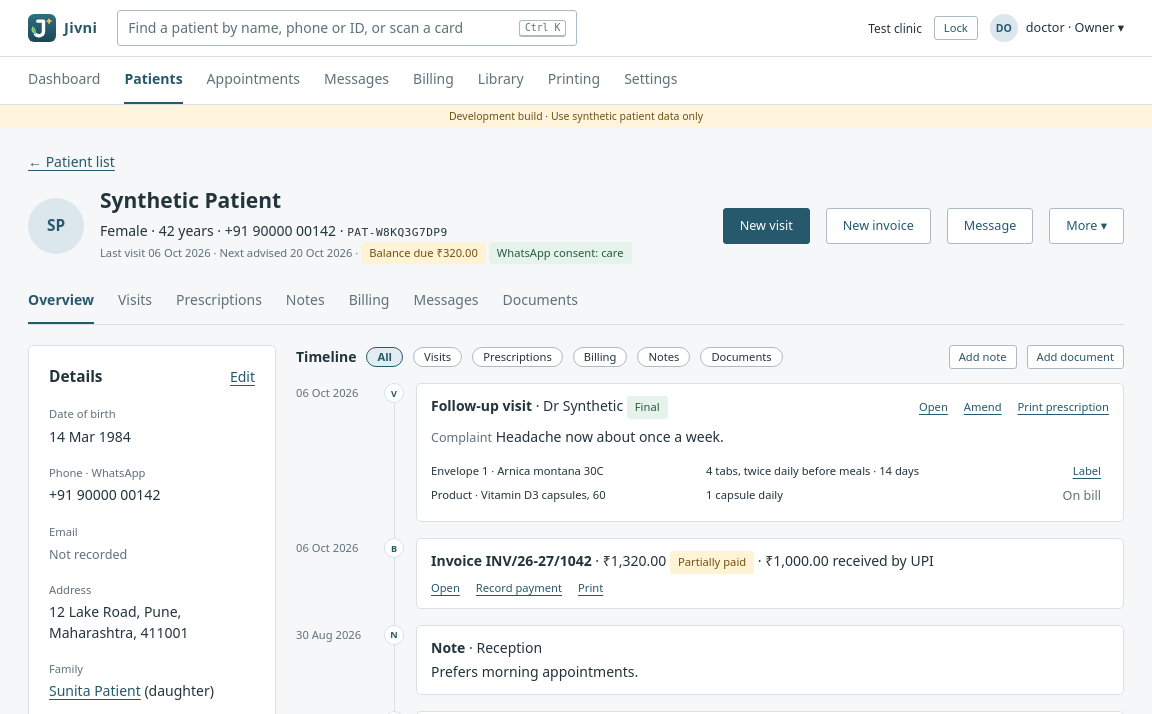
the patient record › shows the banner, the details panel and one timeline of everything
Expected: the heading "Synthetic Patient" is shown, x1=100 y1=186 x2=281 y2=214
Expected: the text "Female · 42 years · +91 90000 00142 · PAT-W8KQ3G7DP9" is shown, x1=100 y1=221 x2=448 y2=240
Click the button "Billing" at [600, 357], box x1=573 y1=347 x2=627 y2=367
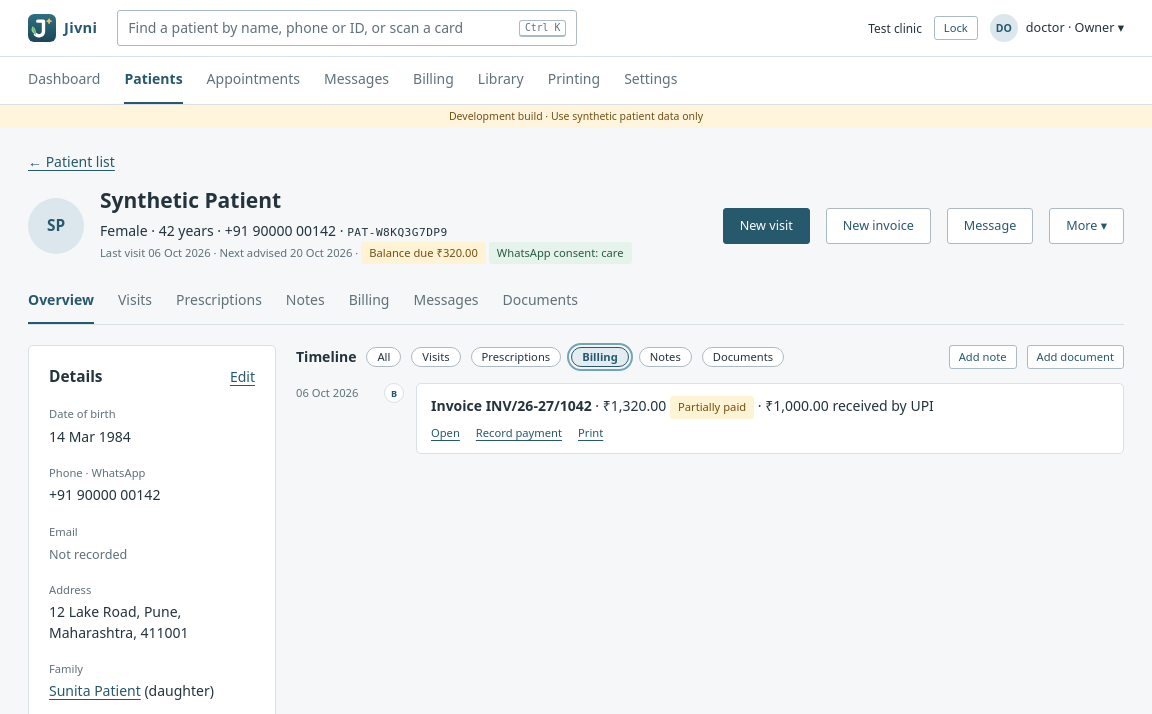
Now the number of list items is 1, box x1=296 y1=383 x2=1124 y2=470
Click the button "Prescriptions" at [516, 357], box x1=471 y1=347 x2=561 y2=367
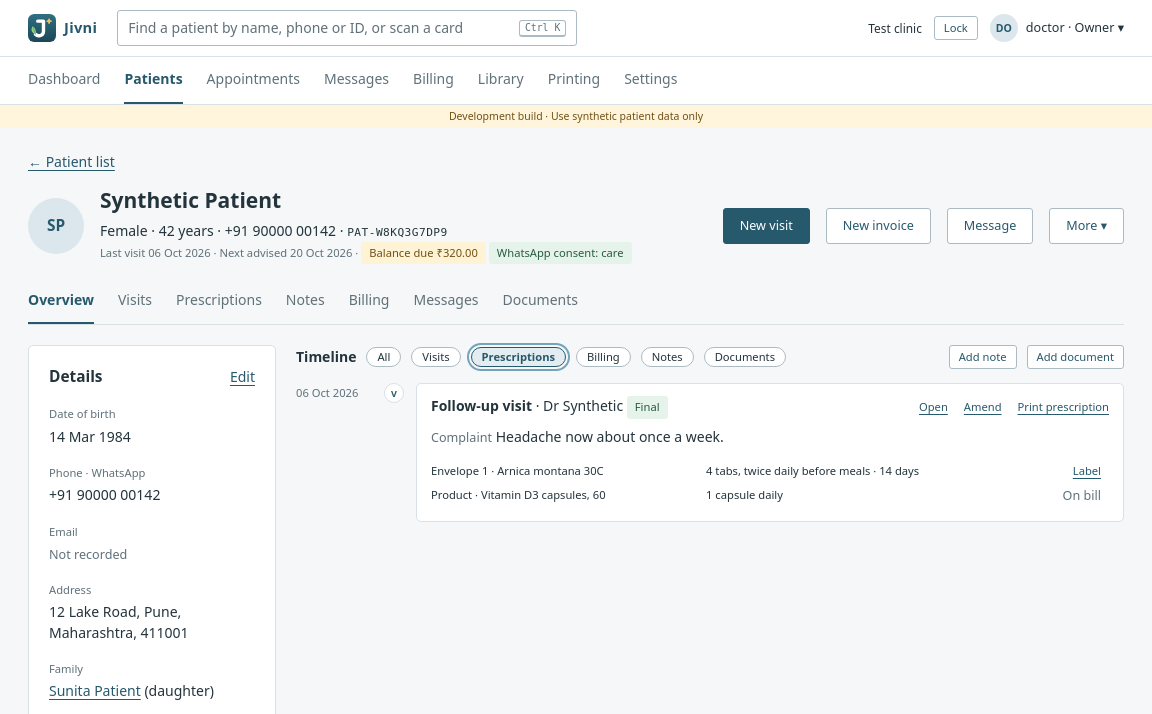
Now the text "Envelope 1 · Arnica montana 30C" is shown, box x1=431 y1=459 x2=706 y2=483
The More menu holds the rarer actions.
Click the button "More ▾" at [1087, 226], box x1=1049 y1=208 x2=1124 y2=244
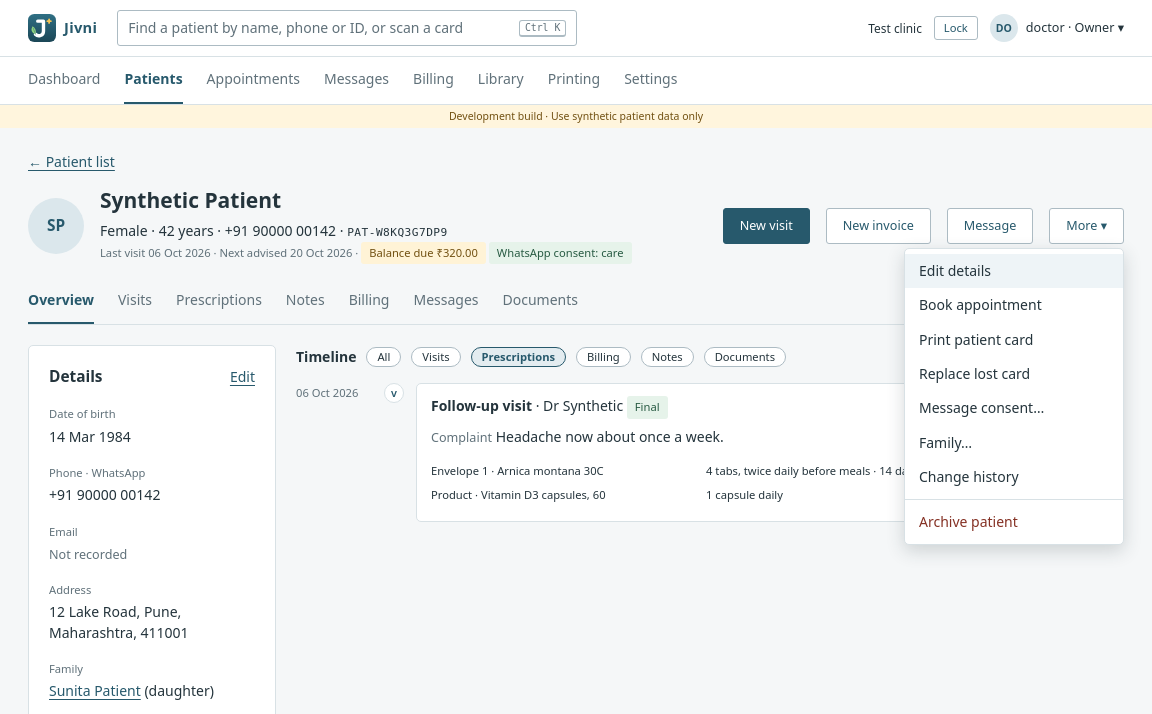
Now the menu item "Edit details" is shown, box x1=905 y1=254 x2=1123 y2=288
Now the menu item "Print patient card" is shown, box x1=919 y1=330 x2=1033 y2=349
Now the menu item "Replace lost card" is shown, box x1=905 y1=357 x2=1123 y2=391
